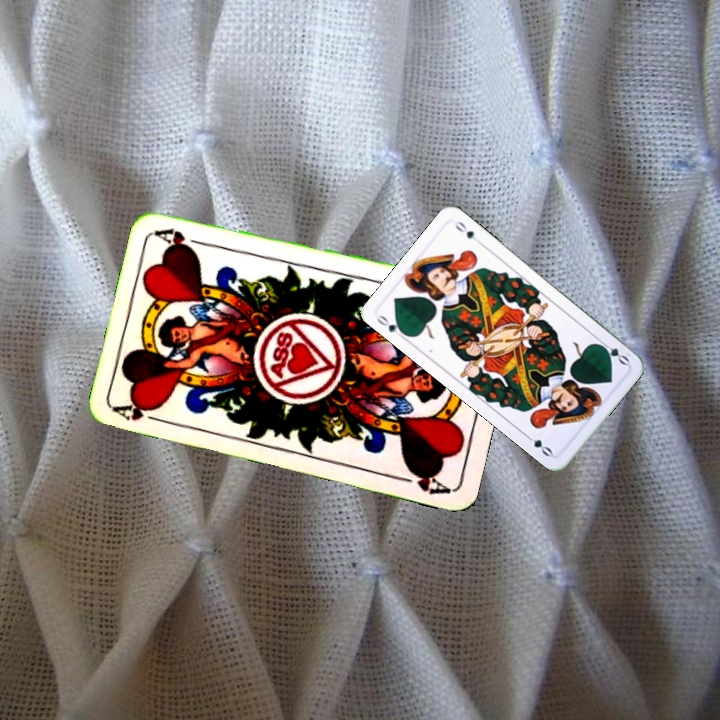GO: (594, 337, 632, 368), (373, 311, 410, 342)
HA: (111, 398, 170, 427)
